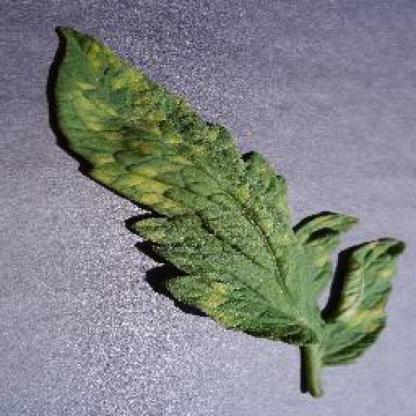Tomato_Leaf_Mold: (53, 25, 402, 353)
